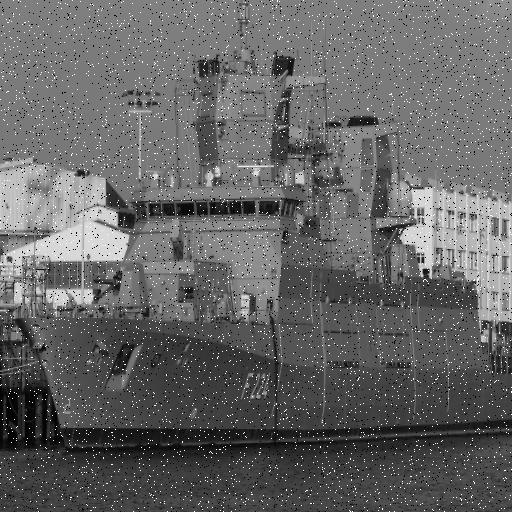Fragata: (9, 1, 512, 461)
